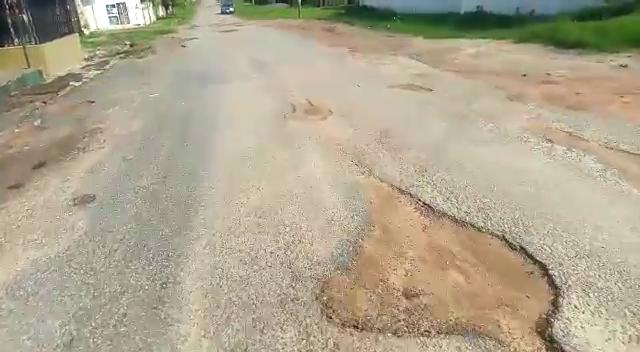pothole: (312, 179, 578, 348), (284, 99, 334, 123), (388, 82, 436, 95)
